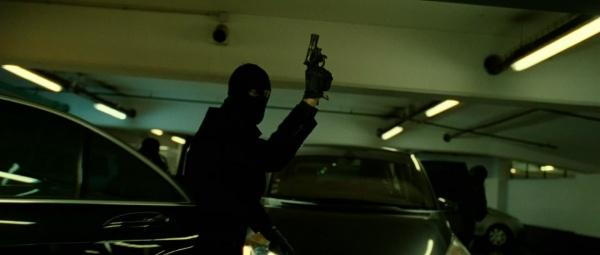Gun: (304, 33, 332, 101)
